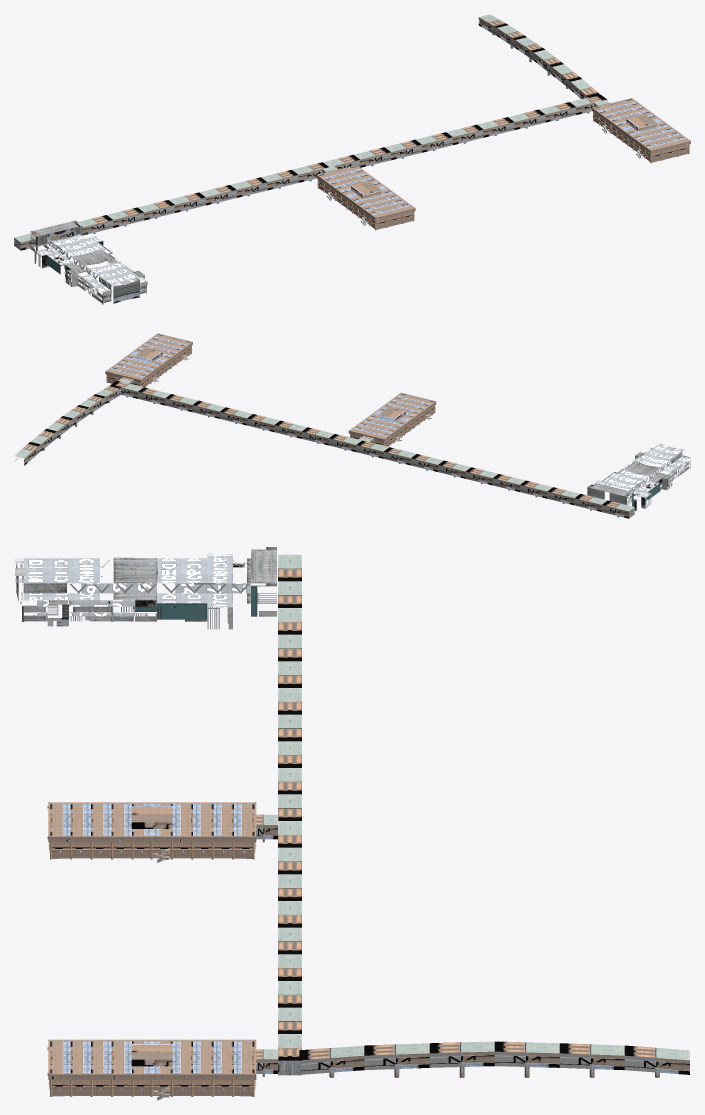
The model's file is Terminal4.exact.glb.
3 views of the same model, one above another, from view 1: azimuth 30°, elevation 25°; view 2: azimuth 150°, elevation 25°; view 3: azimuth 270°, elevation 25° (orthographic). The views are drawn at different scales.
Parts seen in each view (by area): view 1: Terminal4; view 2: Terminal4; view 3: Terminal4.
Boxes of the visible parts, x1,y1,x2,y2 form: Terminal4: (14, 14, 690, 304); Terminal4: (14, 333, 690, 518); Terminal4: (15, 547, 689, 1100).
Size of the model in its own units: 509 by 17 by 277.
1 material, 1 textured.
